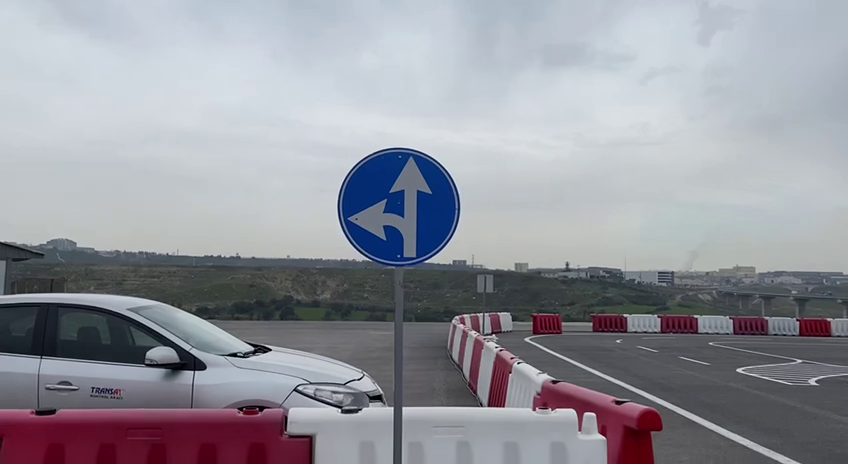forwardAndLeft: (334, 143, 463, 270)
